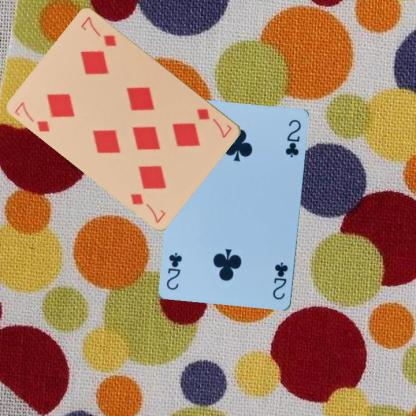2c: (271, 259, 290, 301)
7d: (12, 98, 52, 134), (194, 106, 234, 139)
